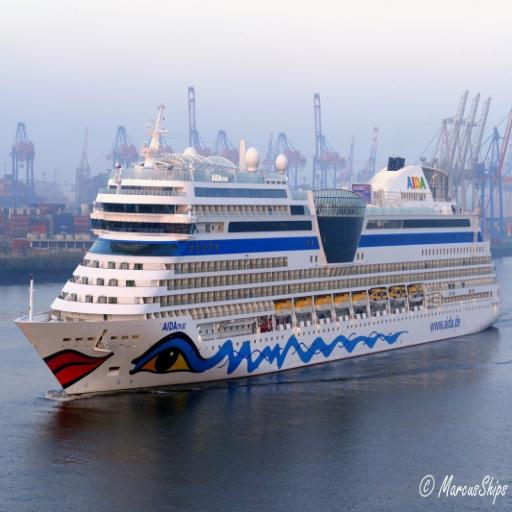cruises: (13, 106, 504, 404)
